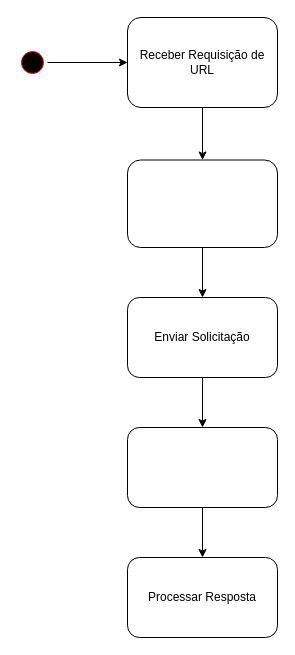
The diagram is 295 pixels wide and 655 high, and some of its shapes have lost their labels. Here are the shapes that lost their labels. From the top down, the centre of each, then its label:
pixel 202 203: Determinar Protocolo
pixel 202 467: Aguardar Resposta
